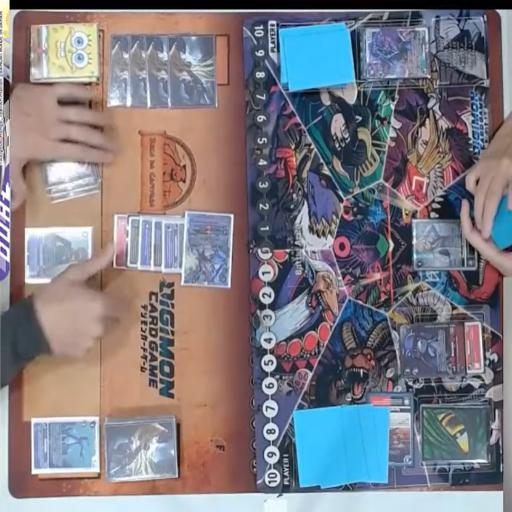card: (23, 227, 95, 285), (182, 214, 234, 289), (31, 416, 98, 474), (398, 322, 468, 376), (410, 218, 476, 271), (364, 28, 428, 80), (161, 214, 189, 274), (112, 214, 133, 272), (136, 215, 154, 272), (152, 210, 168, 272), (468, 319, 485, 374), (128, 210, 142, 267)
